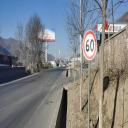speed_limit_60: (83, 30, 97, 61)
